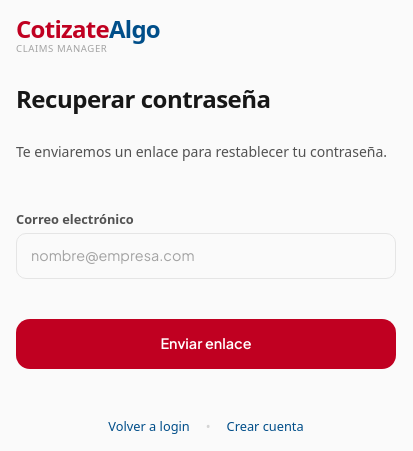
ForgotPasswordForm › submits normalized email and renders success state
Step 1. Type "  USER@EXAMPLE.COM " into the field labelled "Correo electrónico" → (206, 256), box [16, 233, 396, 279]
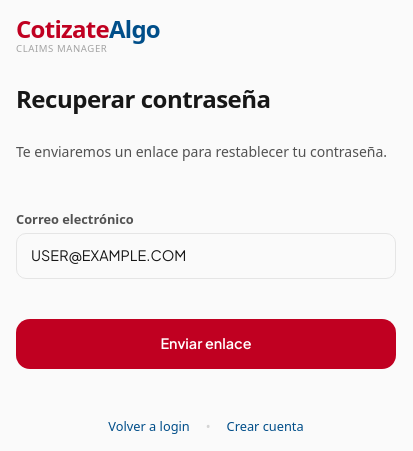
Step 2. Click the button "Enviar enlace" → (206, 344), box [16, 319, 396, 368]
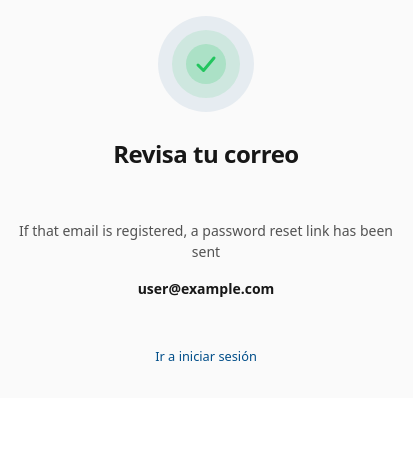
Check: the heading "Revisa tu correo" is shown, box [113, 136, 299, 172]
Check: the text "If that email is registered, a password reset link has been sent" is shown, box [16, 220, 396, 262]
Check: the text "user@example.com" is shown, box [138, 278, 274, 299]
